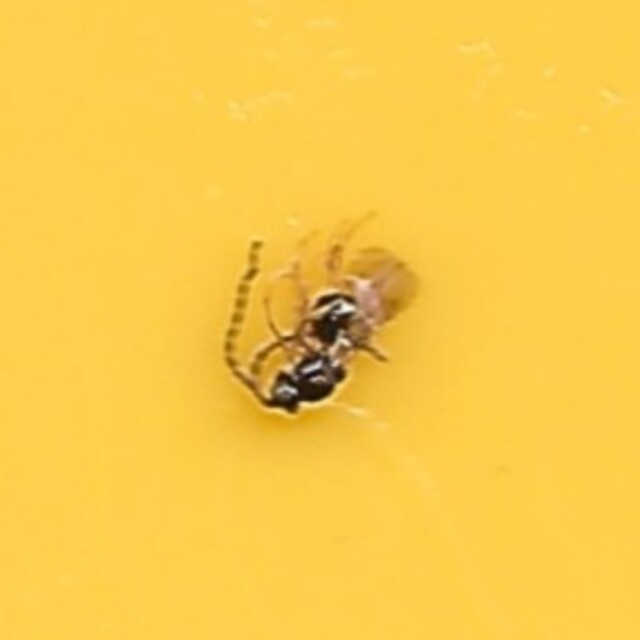Hymenoptera: (224, 217, 416, 423)
